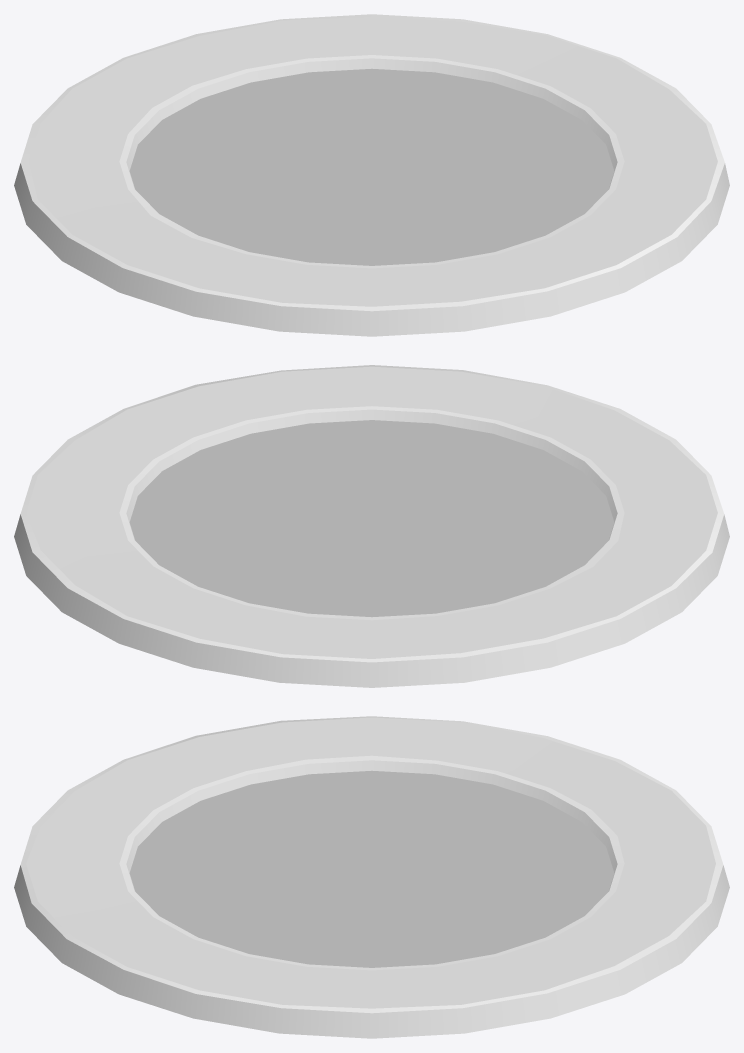
Rendered from WarpGate.fbx.
The picture shows the model from 3 angles, top to bottom: view 1: azimuth 30°, elevation 25°; view 2: azimuth 150°, elevation 25°; view 3: azimuth 270°, elevation 25°; orthographic projection.
Visible parts, largest first — view 1: DestinationPoint; view 2: DestinationPoint; view 3: DestinationPoint.
Part boxes in pixels (x1=…): DestinationPoint: x1=14, y1=14, x2=729, y2=336; DestinationPoint: x1=14, y1=365, x2=729, y2=687; DestinationPoint: x1=14, y1=716, x2=729, y2=1038.
Bounding box in the file's own units: 88.69 × 3.25 × 88.69.
1 material, 1 textured.
